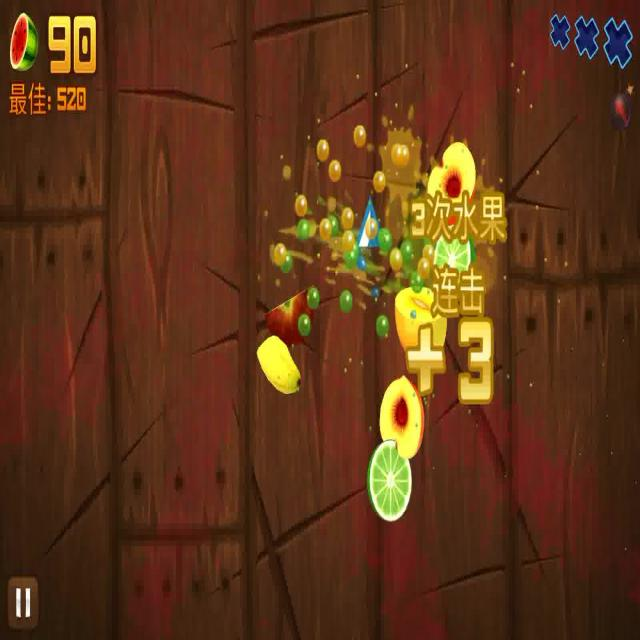fruit: (389, 278, 448, 365), (357, 438, 415, 526), (418, 142, 486, 211), (247, 334, 302, 404), (374, 379, 422, 456), (256, 295, 317, 345), (426, 241, 482, 295)
